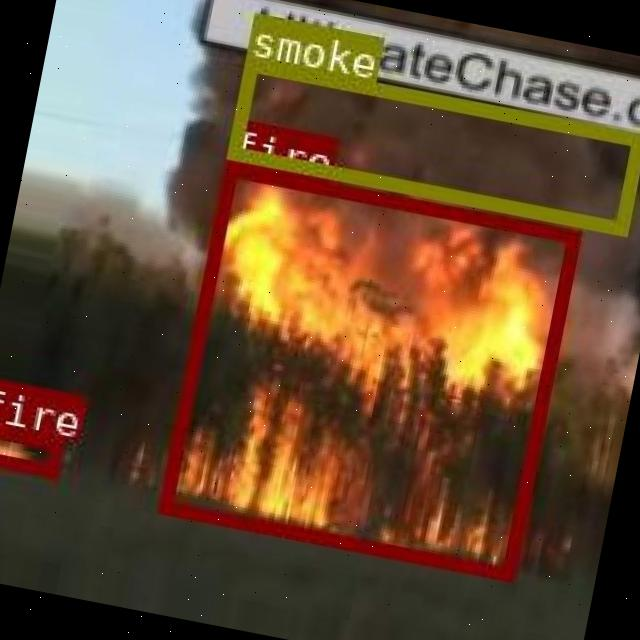fire: (157, 161, 579, 578), (0, 420, 63, 475)
smoke: (227, 55, 640, 231)
